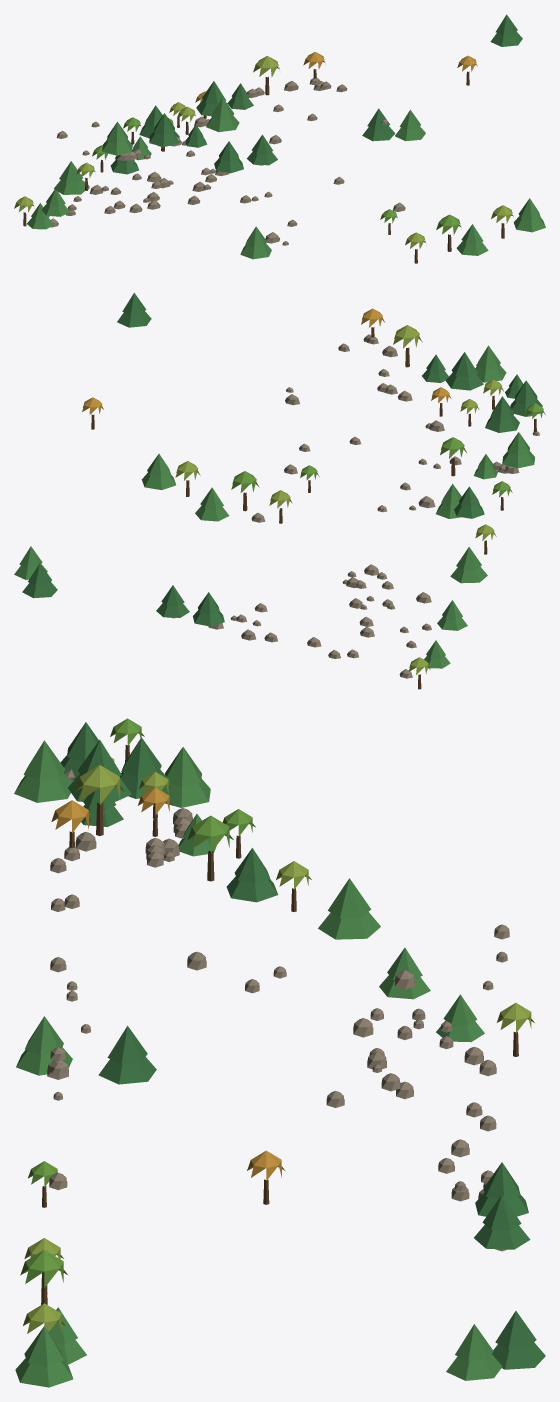
Rendered from friendship-pass-toon-props.glb.
3 views of the same model, one above another, from view 1: azimuth 30°, elevation 25°; view 2: azimuth 150°, elevation 25°; view 3: azimuth 270°, elevation 25° (orthographic). The views are drawn at different scales.
Visible parts, largest first — view 1: ToonProps; view 2: ToonProps; view 3: ToonProps.
Part boxes in pixels (x1,y1,x2,y2): ToonProps: (14,14,545,263); ToonProps: (14,292,545,689); ToonProps: (14,718,545,1387).
Size of the model in its own units: 30.23 by 17 by 19.18.
